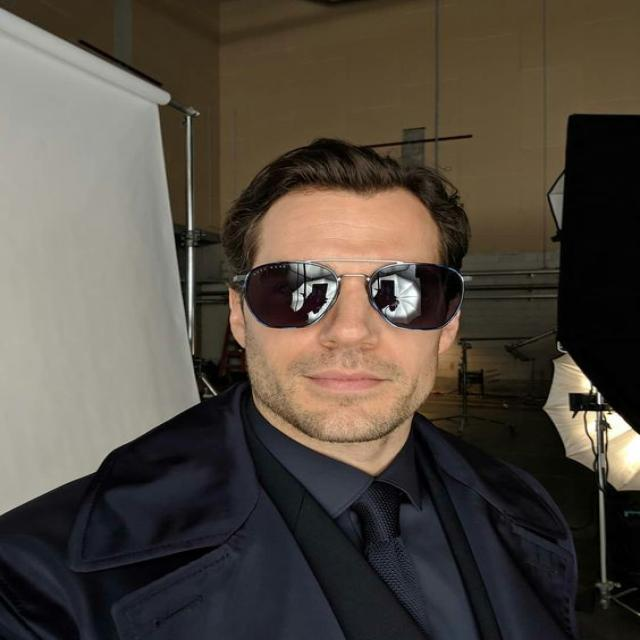glasses: (232, 255, 476, 334)
